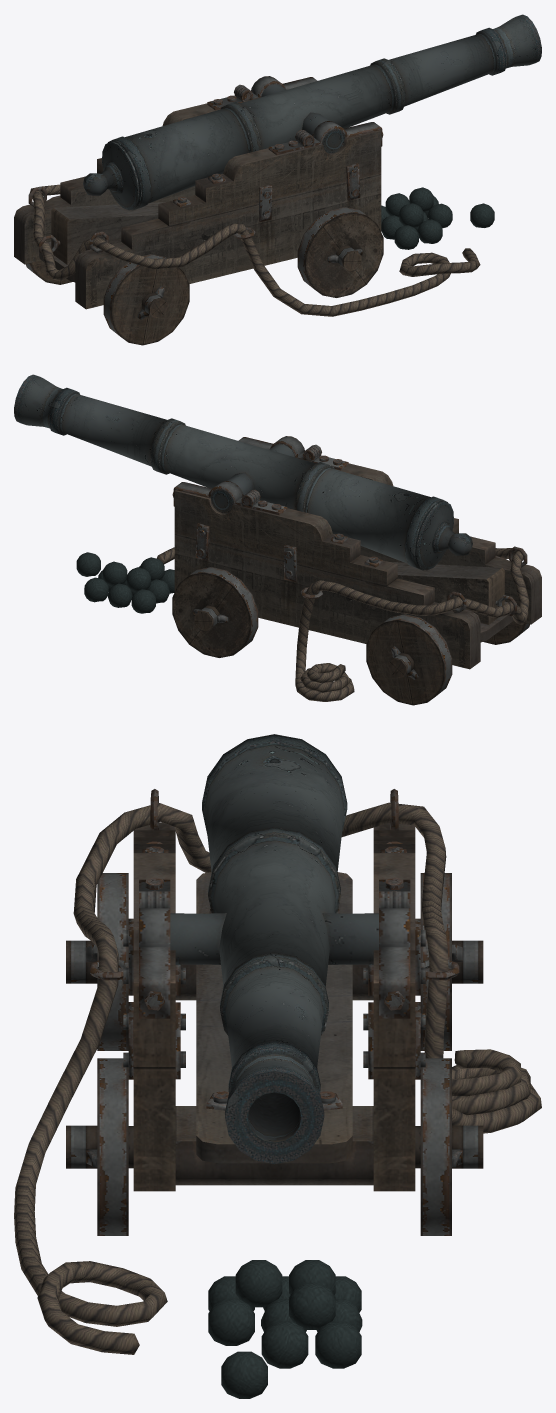
The model's file is BSwap_Pirates_Cannon_01.fbx.
3 renders of one model, top to bottom at view 1: azimuth 30°, elevation 25°; view 2: azimuth 150°, elevation 25°; view 3: azimuth 270°, elevation 25°, orthographic. The views are drawn at different scales.
Visible parts, largest first — view 1: Cannon_LP; view 2: Cannon_LP; view 3: Cannon_LP.
Part boxes in pixels (x1=…): Cannon_LP: x1=14, y1=14, x2=541, y2=345; Cannon_LP: x1=14, y1=374, x2=541, y2=705; Cannon_LP: x1=14, y1=734, x2=541, y2=1398.
Bounding box in the file's own units: 1066 × 398 × 506.
